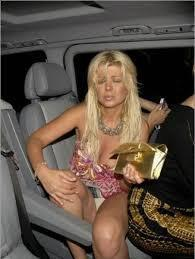Drunk: (94, 65, 128, 106)
